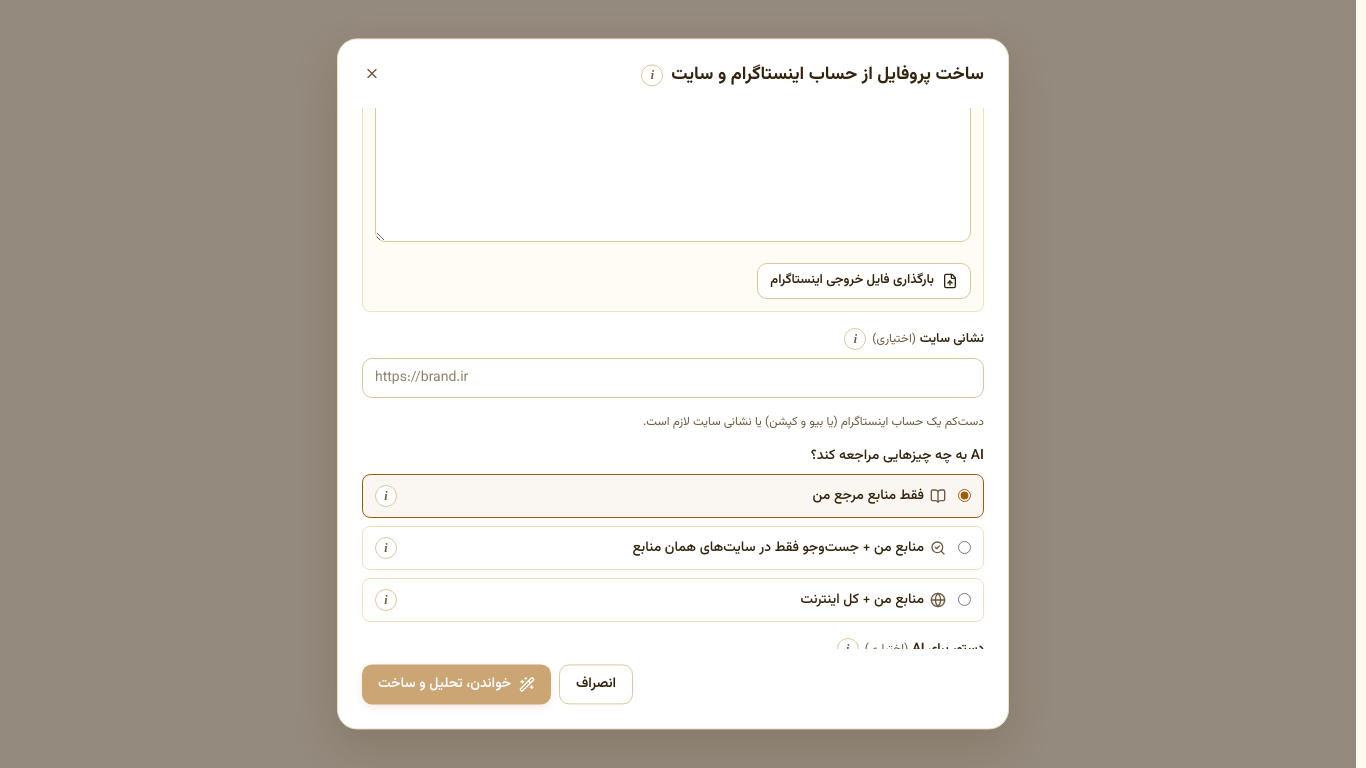
Test: FromPresenceDialog › needs an account or a website before it can be sent
The width and height of the screenshot is (1366, 768).
(page scrolled)
Expected: the button "خواندن، تحلیل و ساخت" is disabled, [362,665,551,705]
Click the field with placeholder "https://brand.ir" at x=673, y=378, box [362,358,984,398]
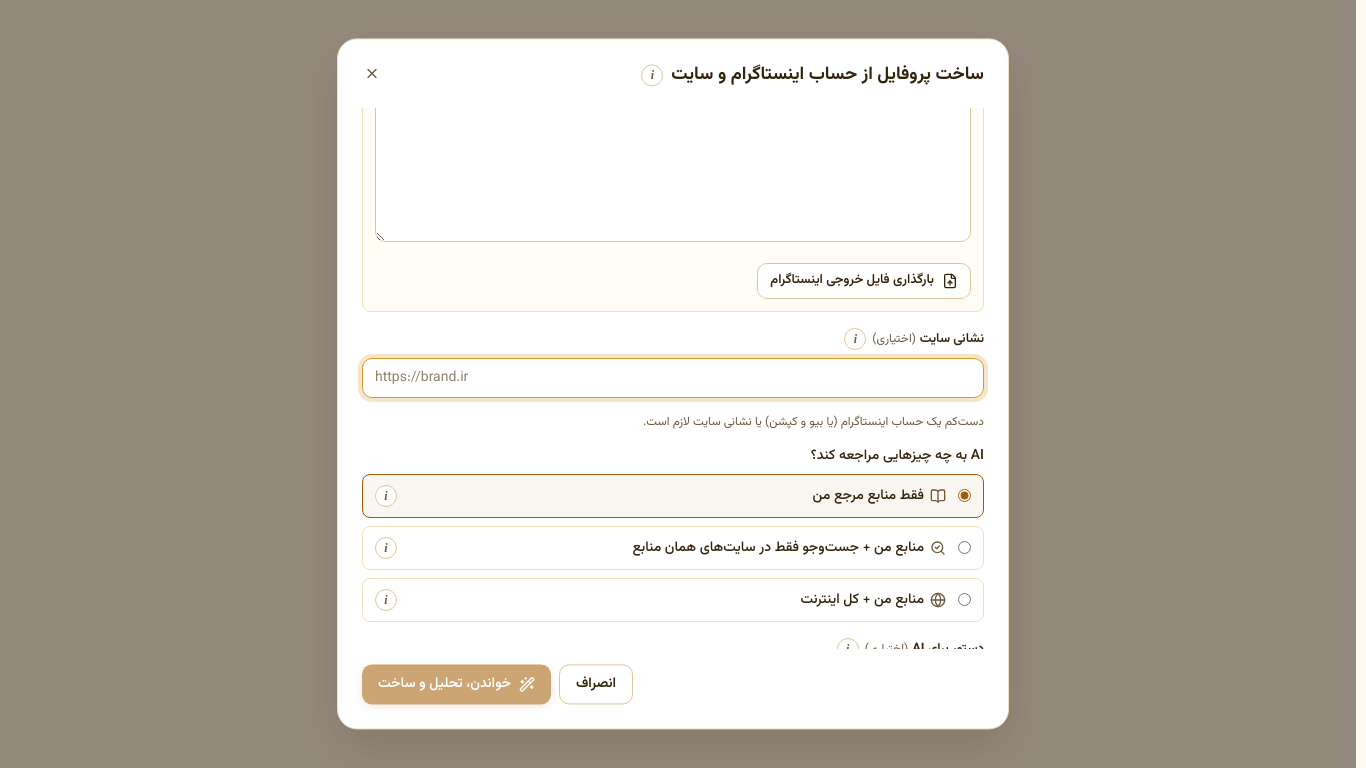
Type keys "https://brand.ir"
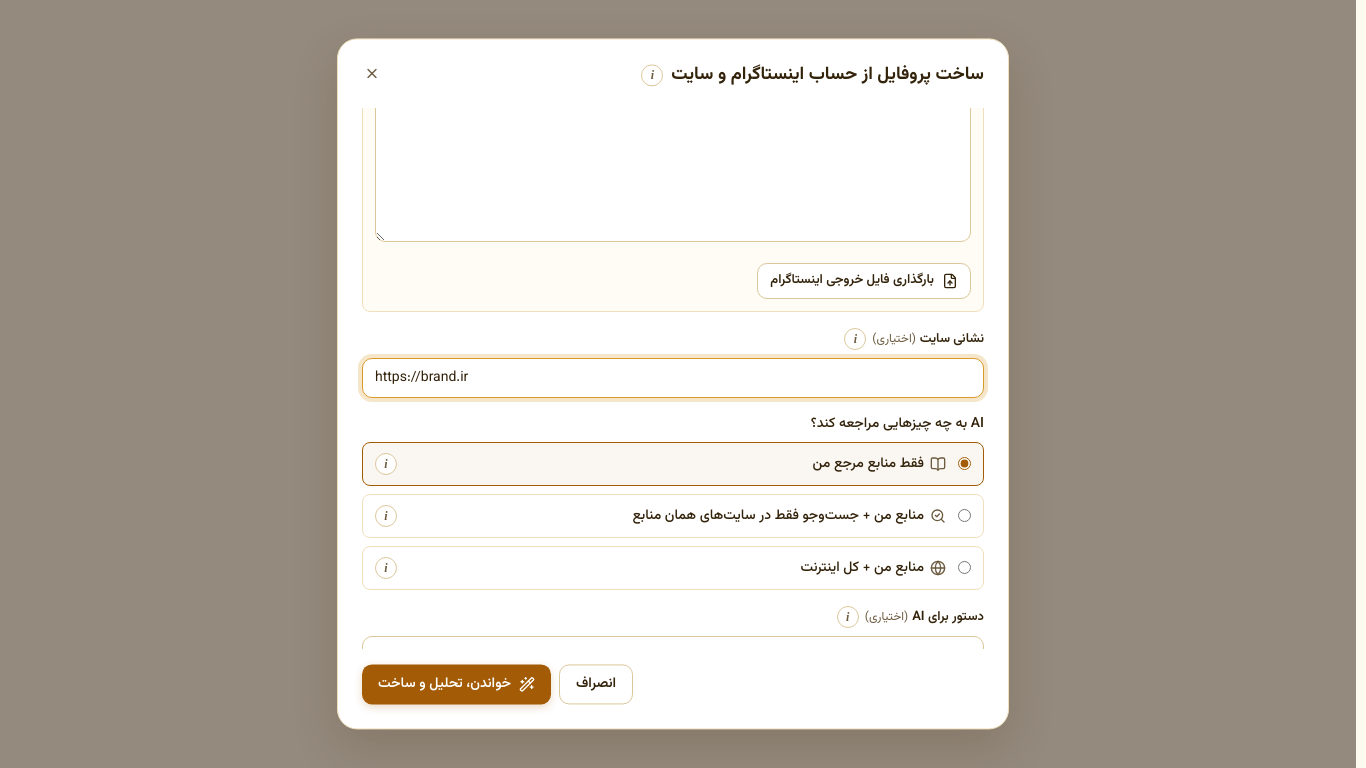
Result: the button "خواندن، تحلیل و ساخت" is enabled at [362,665,551,705]
